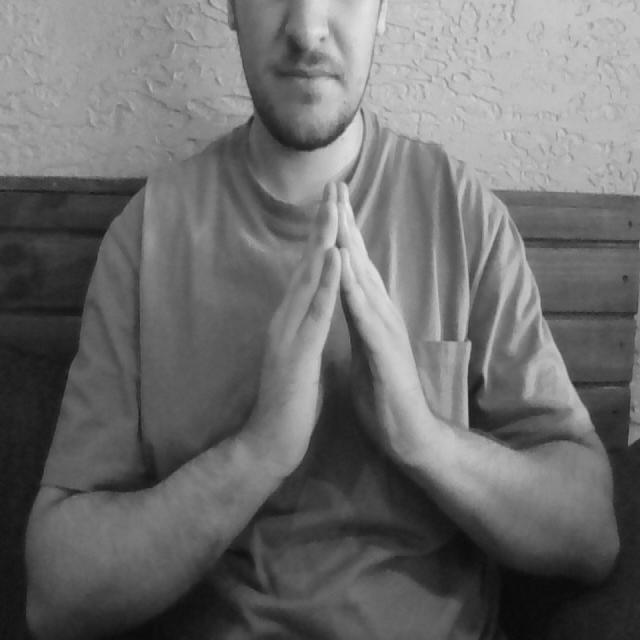Ev: (233, 177, 433, 474)
